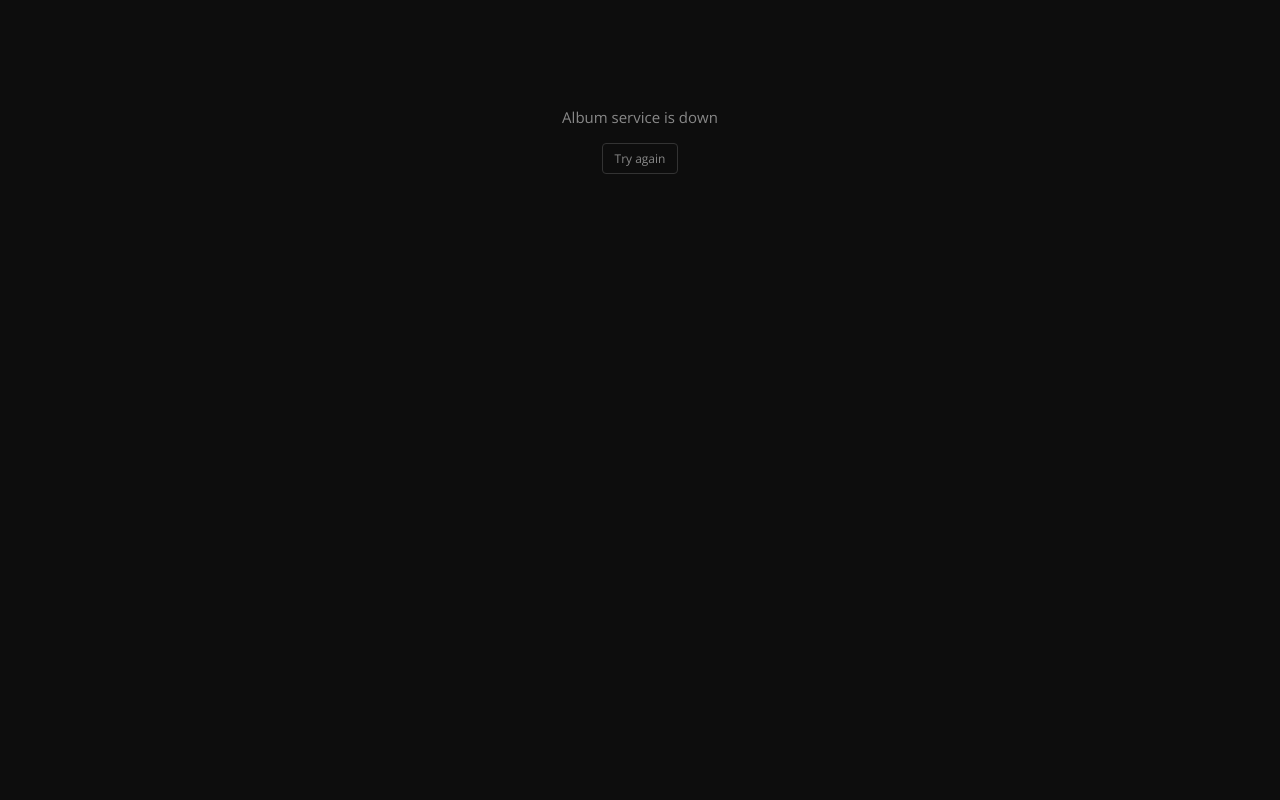
Test: /album/<slug>/<song-slug> whose song cannot be reached › shows the song after Try again once the failure is over
Step 1. Click the button with class "address-action" → click(640, 158), box [602, 142, 678, 174]
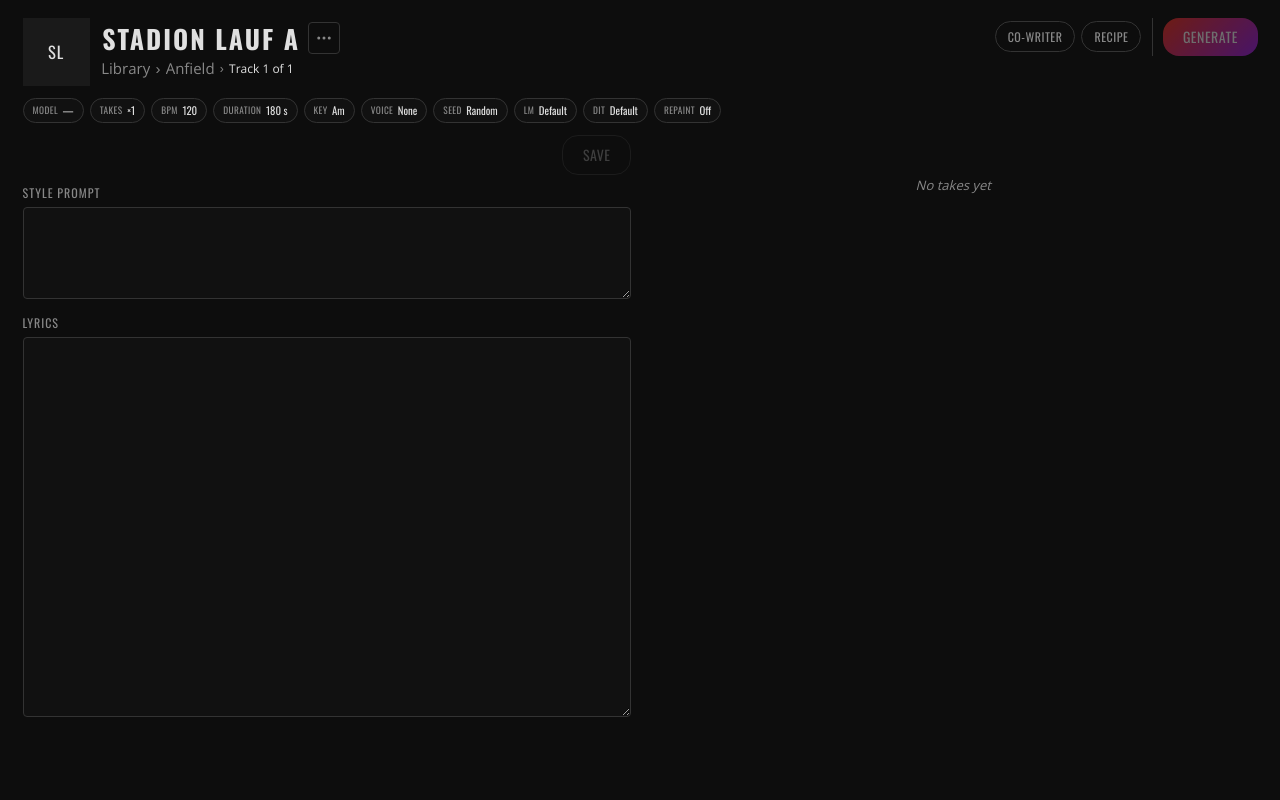
Now the text "Stadion Lauf A" is shown, box [97, 16, 305, 60]
